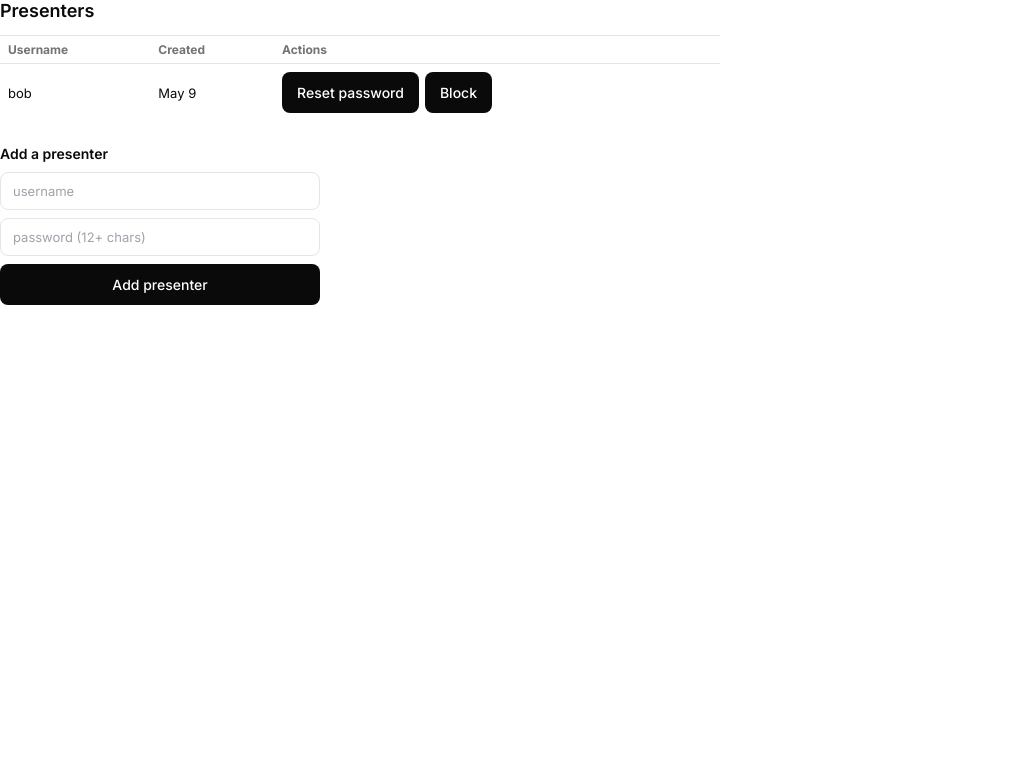
UsersPage › blockUser rejection displays an error message
This screenshot has width=1024, height=768.
Click the button with test id "block-bob". click: (458, 92)
box: left=425, top=72, right=492, bottom=113
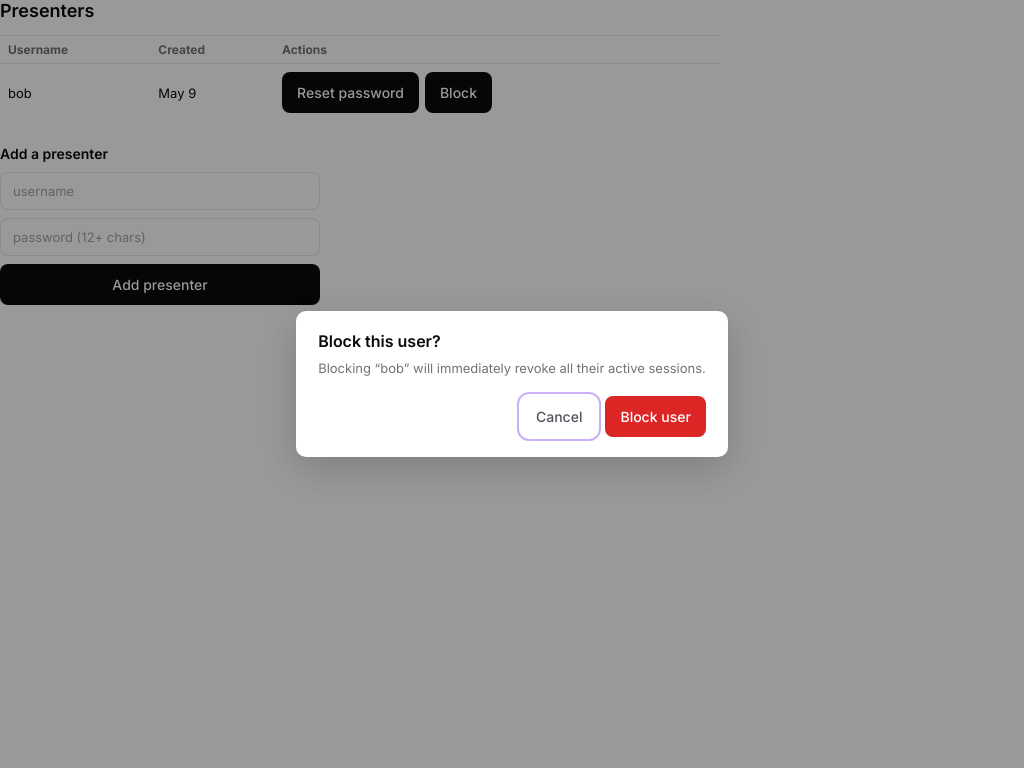
// Confirm in the dialog
Click the button with test id "confirm-dialog-confirm". click: (656, 417)
box: left=605, top=396, right=706, bottom=437
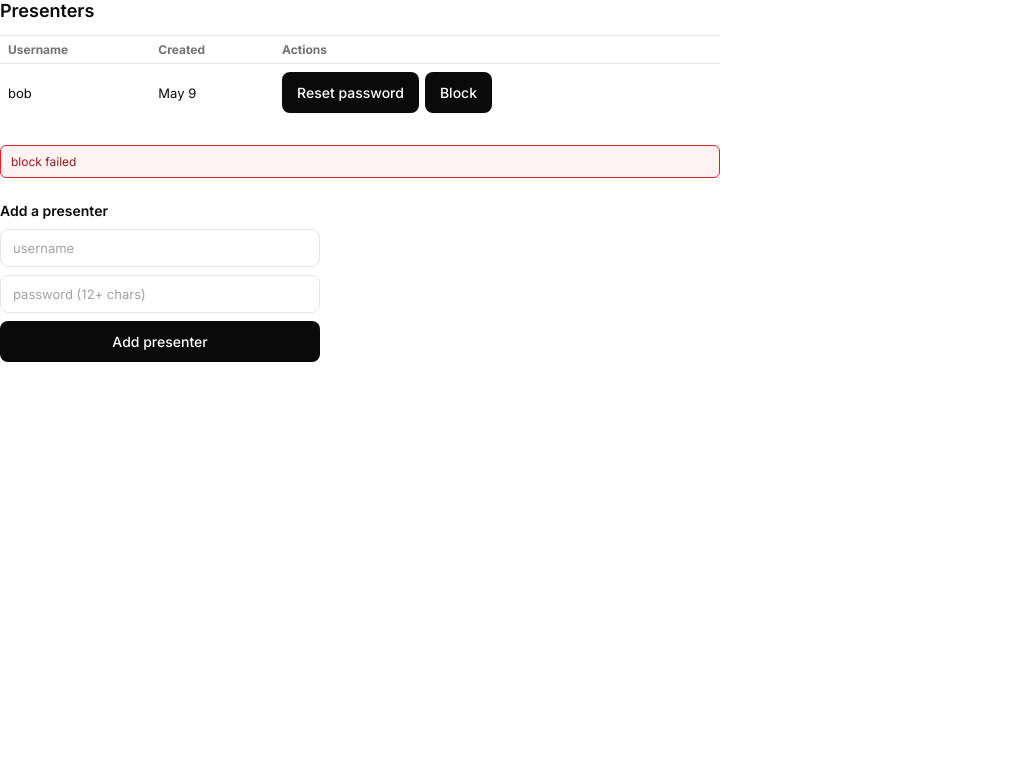
Now the message "block failed" is shown, box left=0, top=145, right=720, bottom=178
Now the message with test id "users-error" reads "block failed", box left=11, top=154, right=76, bottom=169
